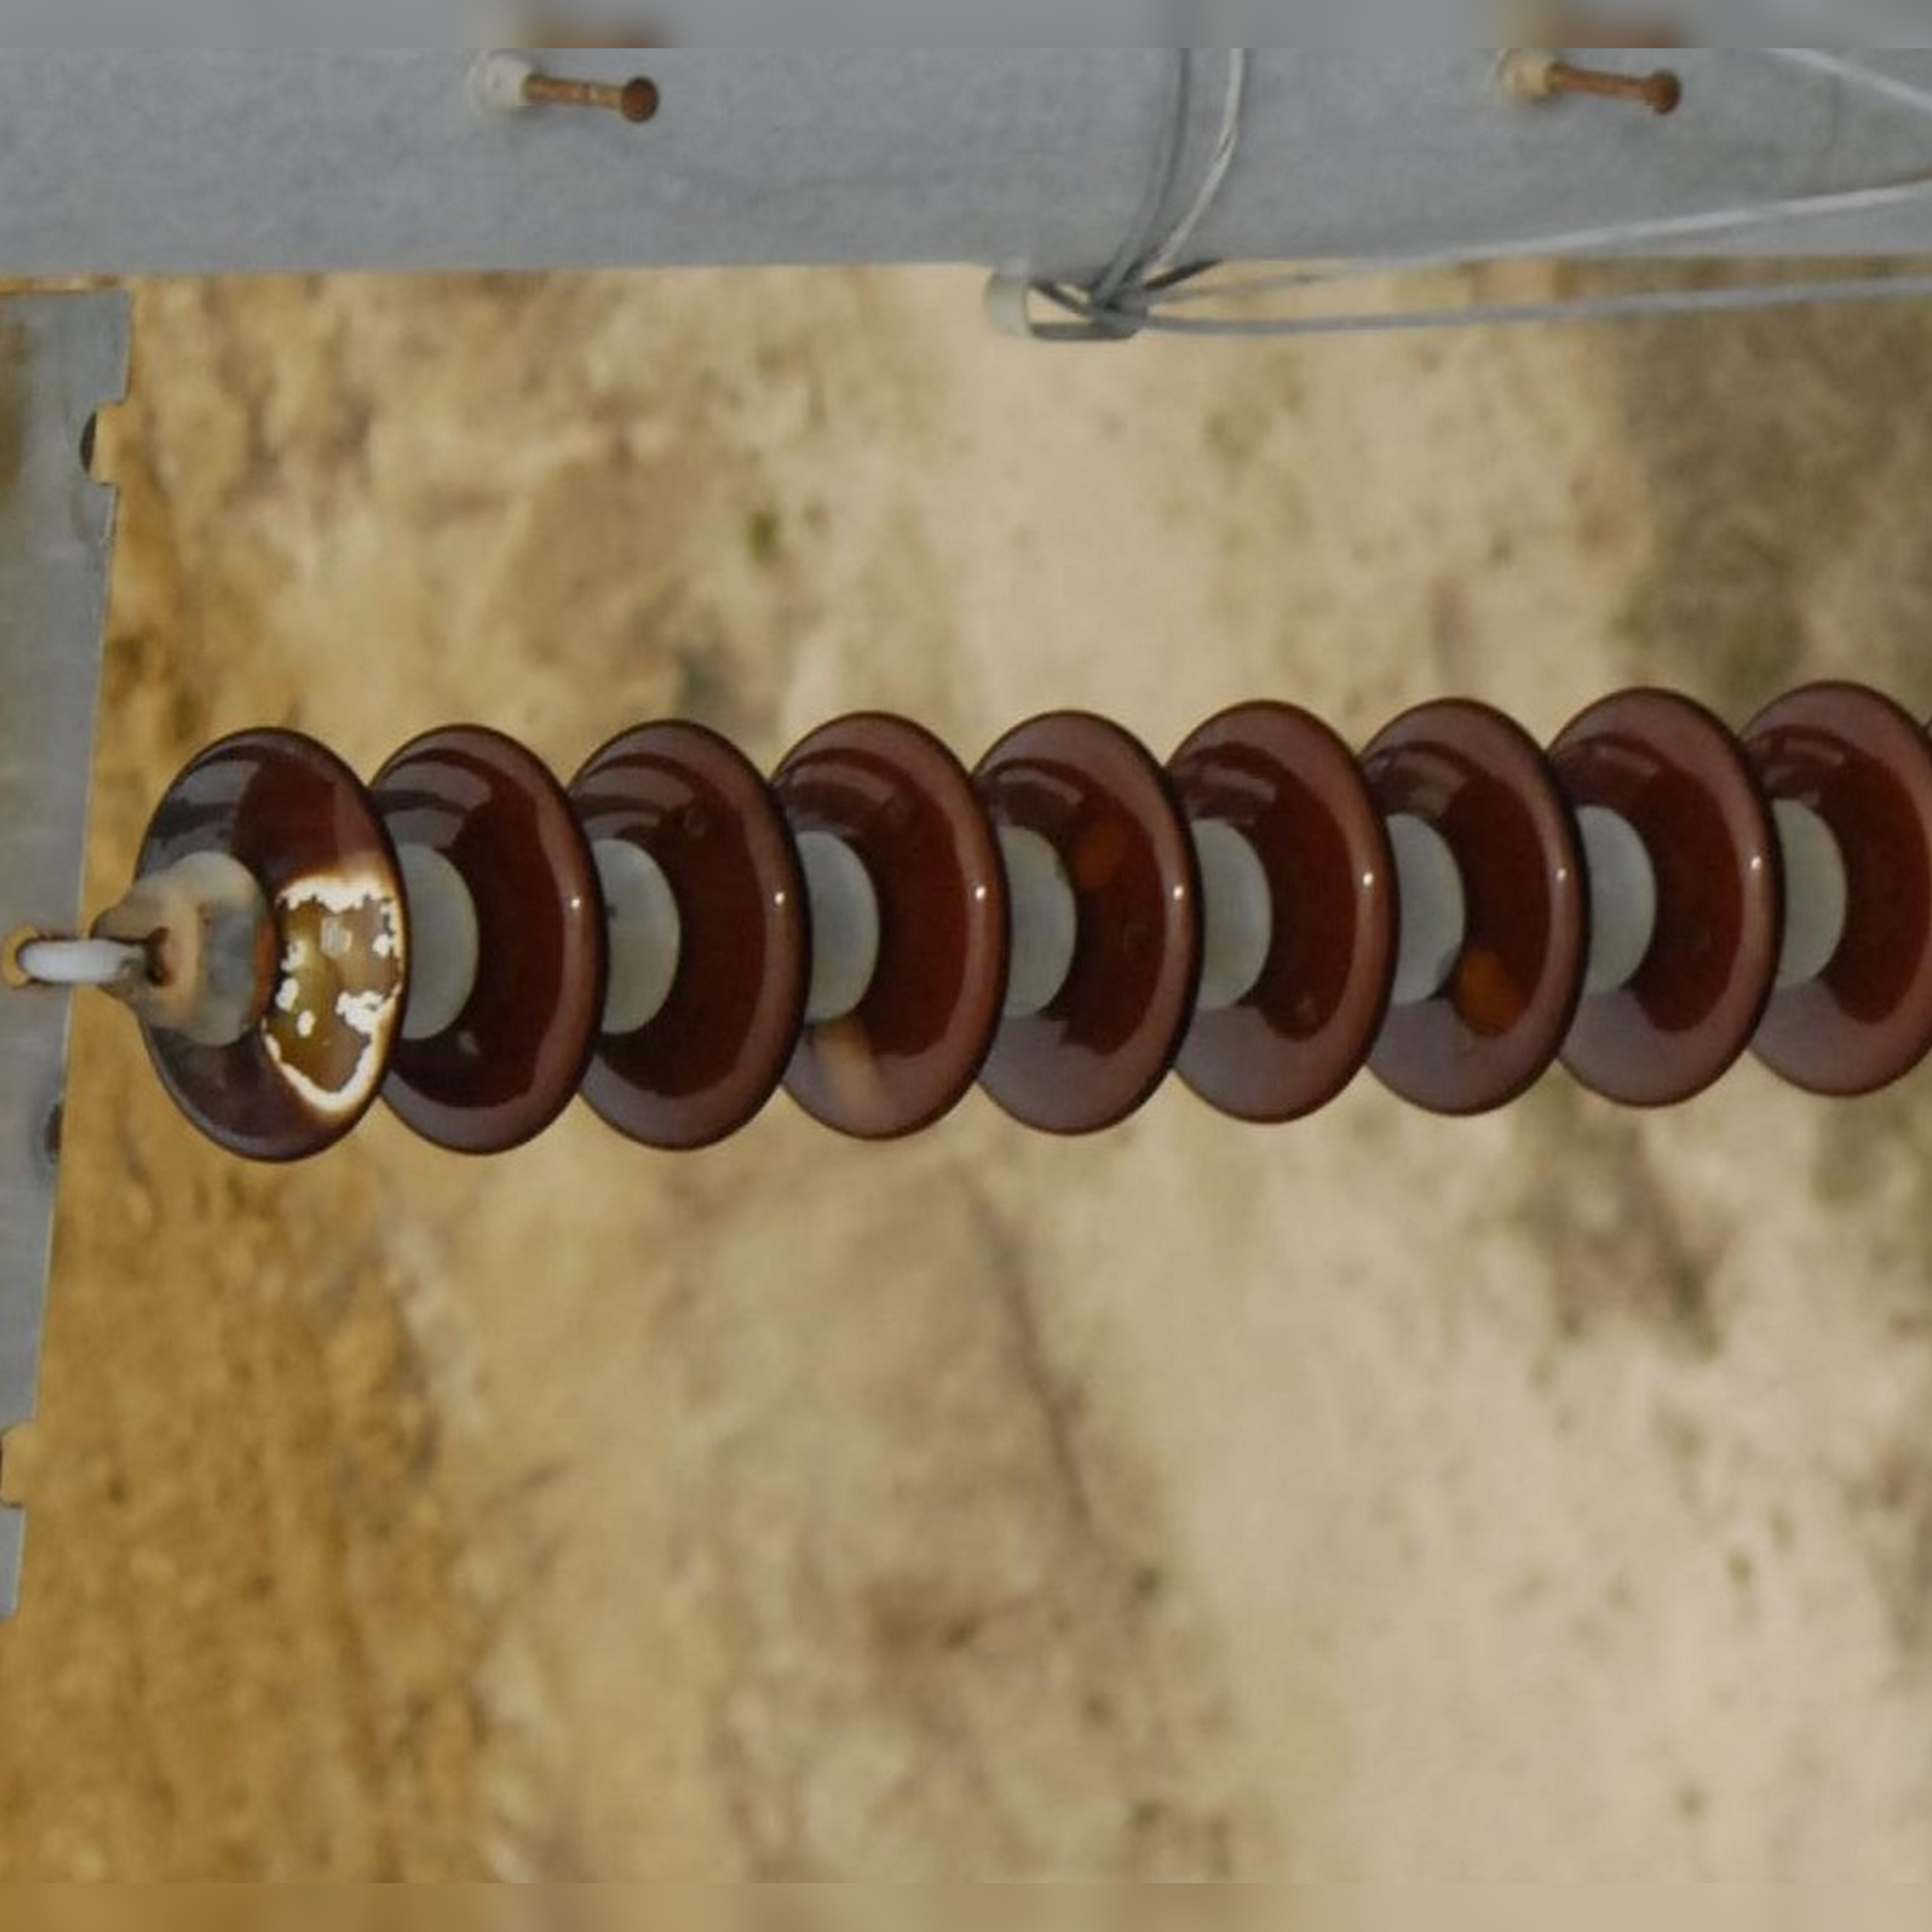Insulator flashover: (101, 713, 432, 1182)
